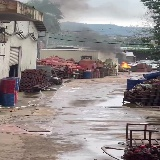fire: (122, 62, 131, 68)
